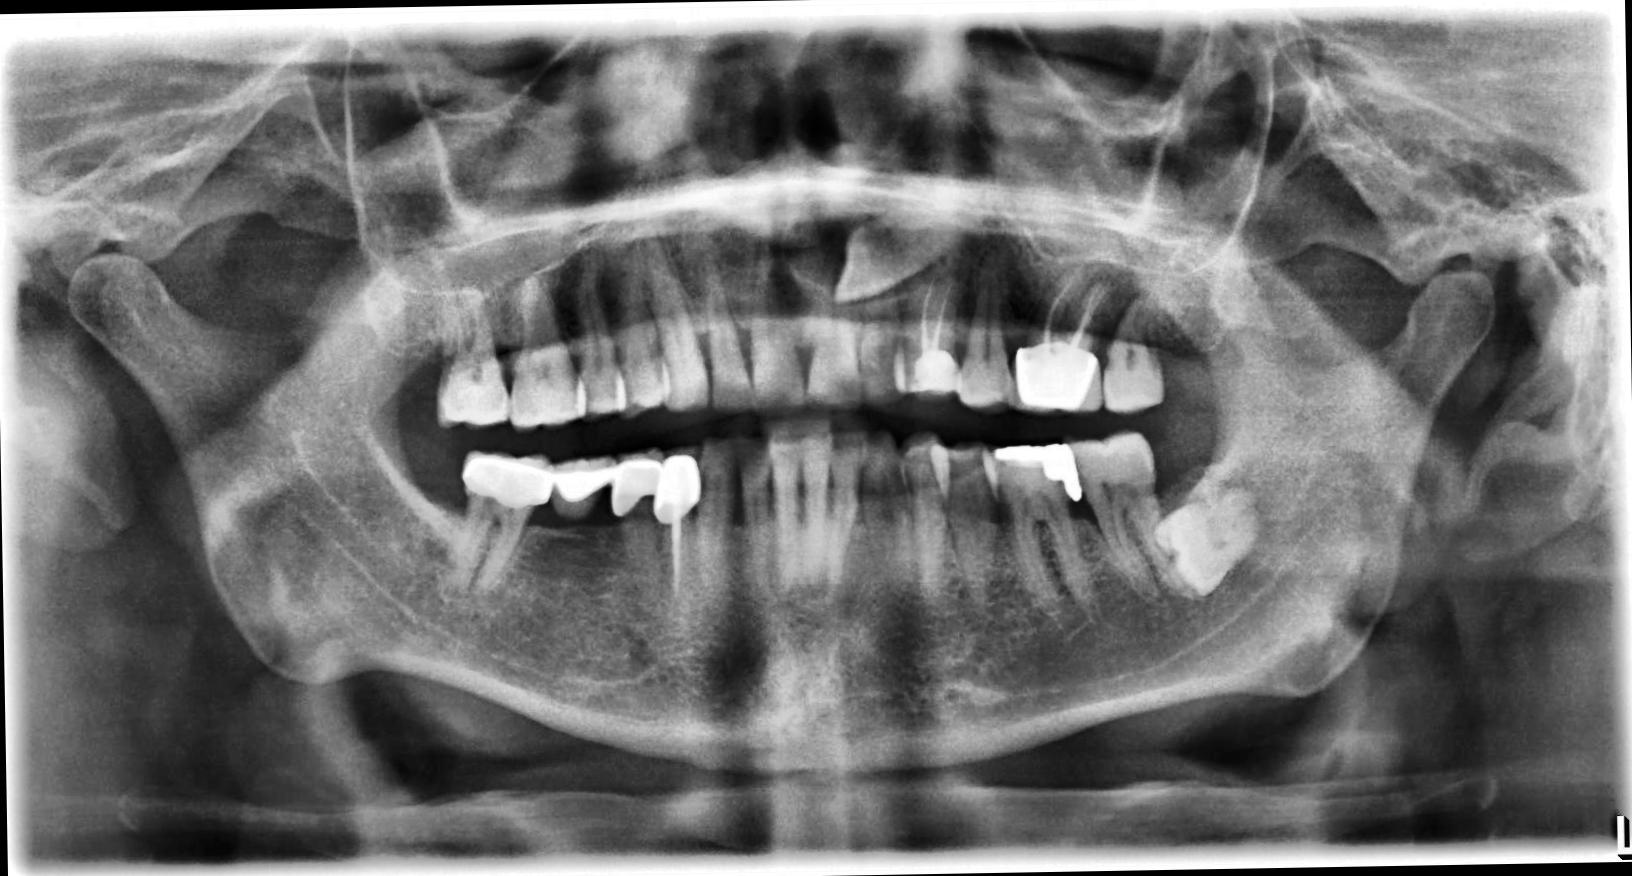dentigeroz: (780, 196, 900, 311)
